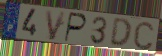3: (89, 16, 109, 46)
4: (21, 7, 39, 40)
C: (132, 20, 156, 52)
D: (109, 18, 133, 49)
P: (63, 11, 88, 44)
V: (44, 9, 67, 42)
